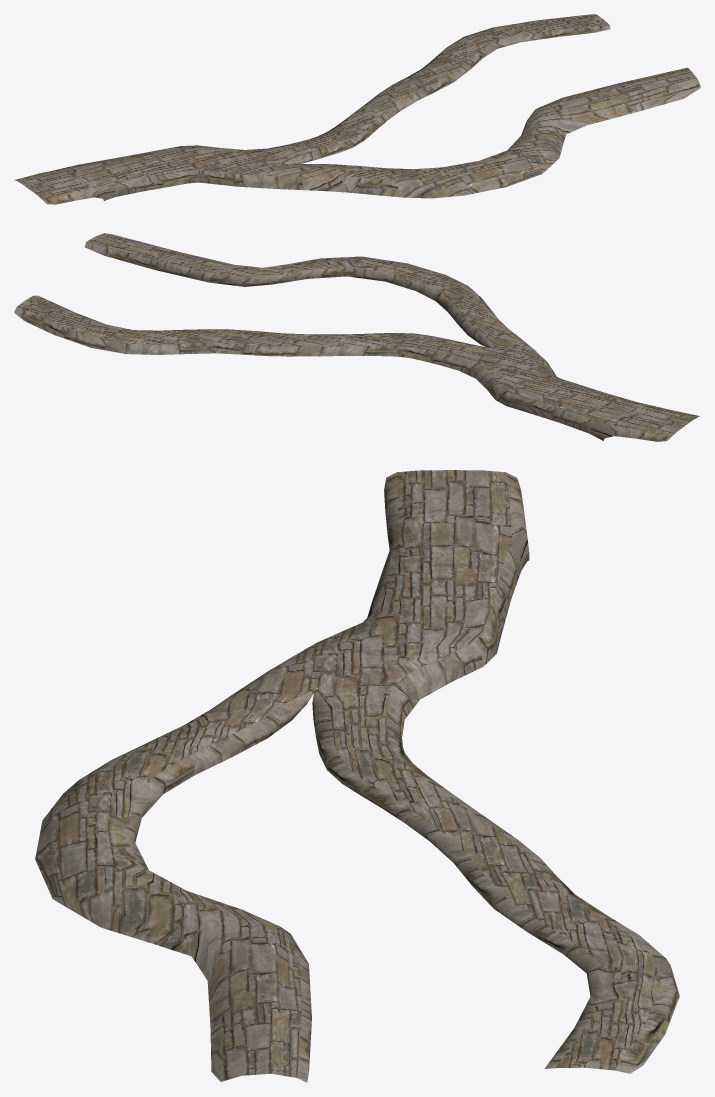
The model's file is PATH_2.fbx.
3 views of the same model, one above another, from view 1: azimuth 30°, elevation 25°; view 2: azimuth 150°, elevation 25°; view 3: azimuth 270°, elevation 25° (orthographic). The views are drawn at different scales.
Visible parts, largest first — view 1: Ground.002; view 2: Ground.002; view 3: Ground.002.
Part boxes in pixels (x1,y1,x2,y2): Ground.002: (14,14,700,204); Ground.002: (14,233,699,441); Ground.002: (35,470,679,1082).
Size of the model in its own units: 4780 by 116 by 2152.
